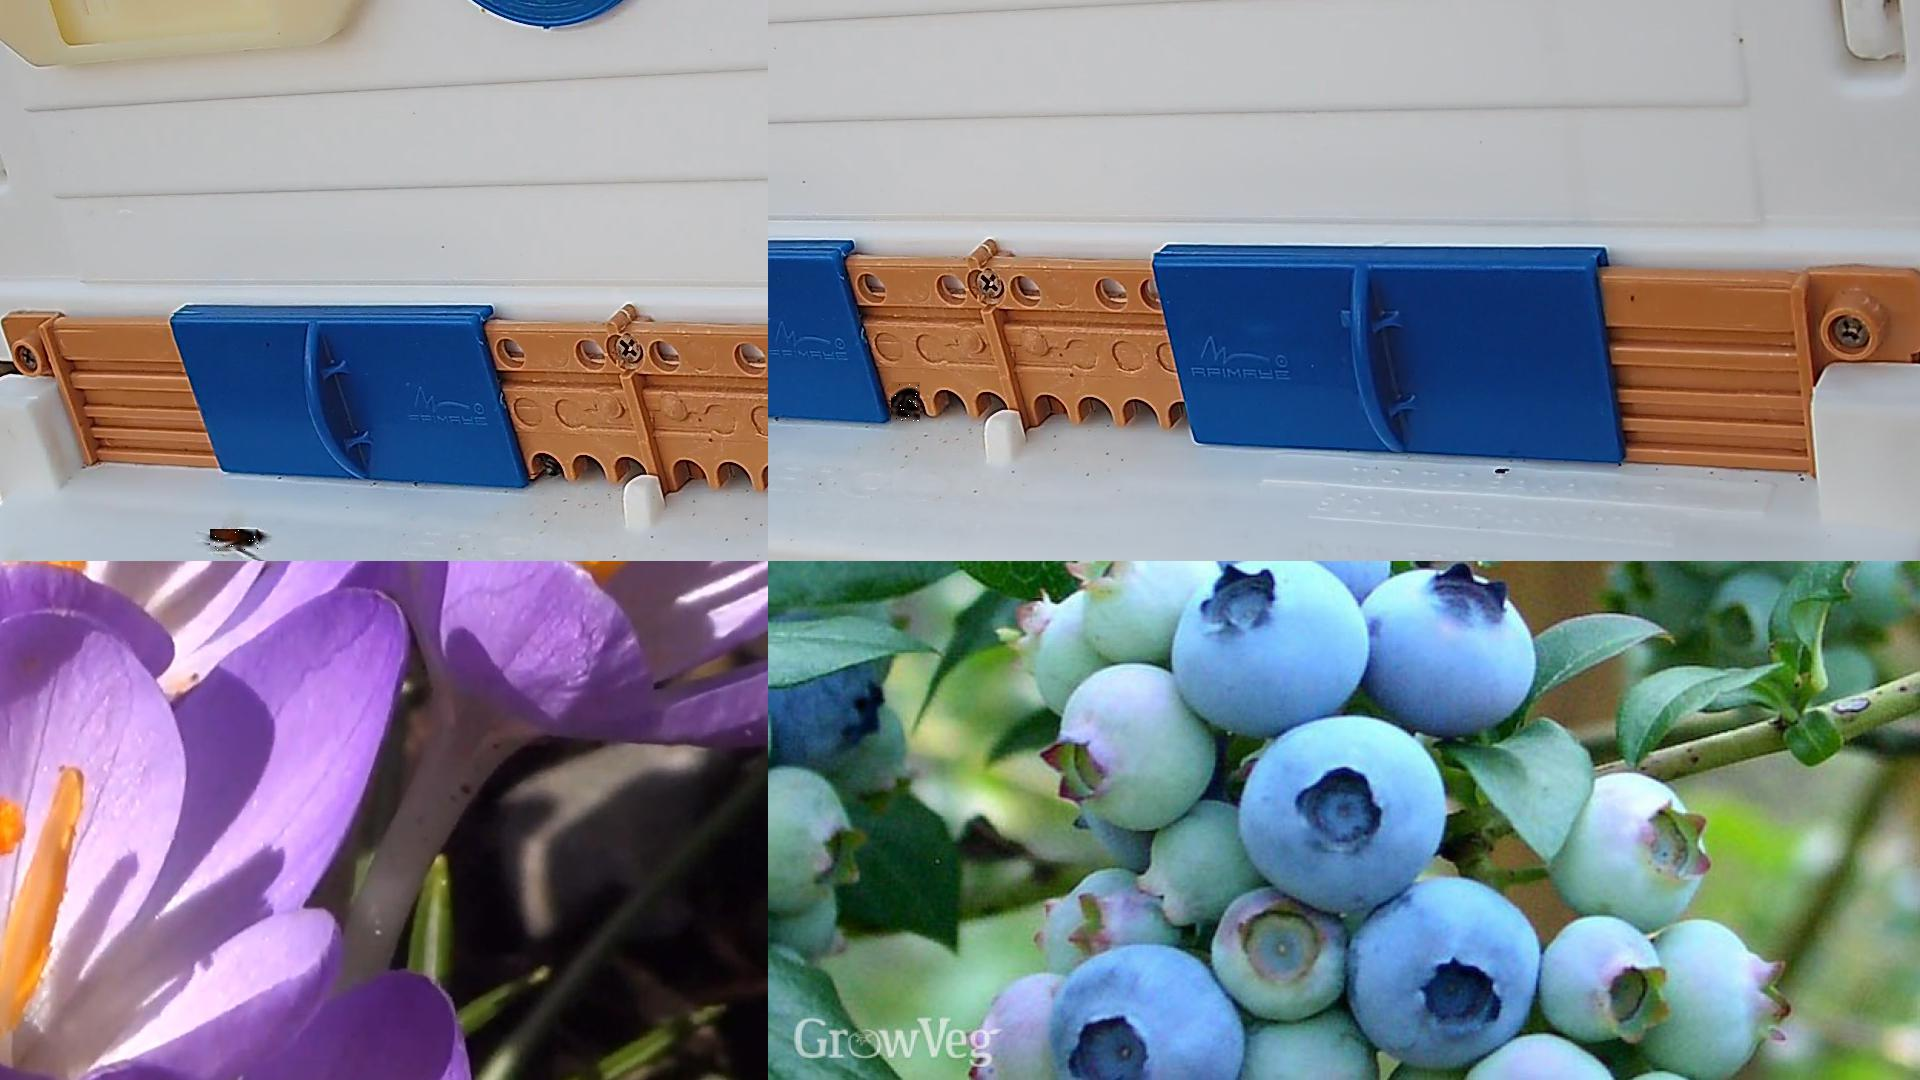bee: (891, 382, 922, 422), (211, 530, 261, 553)
